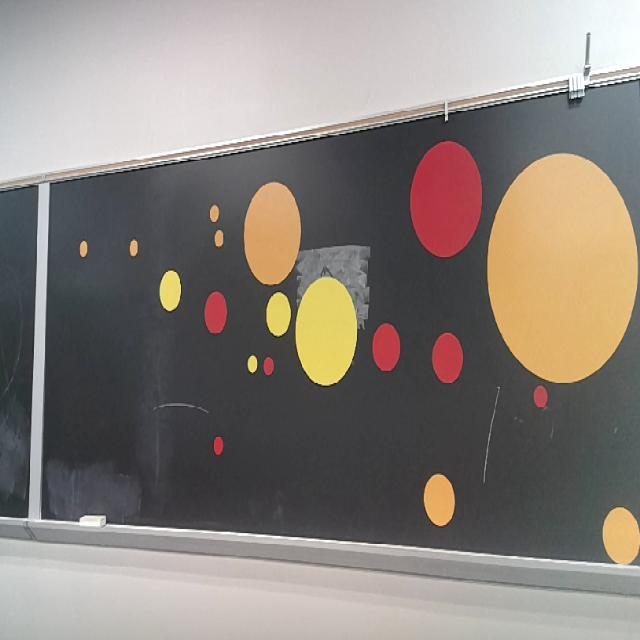Orange: (486, 152, 638, 382), (245, 182, 302, 287), (603, 508, 640, 564), (423, 473, 456, 527), (209, 203, 220, 222), (79, 241, 88, 258), (214, 231, 223, 247), (130, 239, 138, 257)
Red: (410, 140, 482, 258), (432, 333, 463, 382), (372, 322, 400, 372), (204, 290, 228, 334), (534, 384, 548, 408), (264, 357, 274, 376), (213, 436, 223, 455)
Yellow: (295, 276, 357, 387), (267, 292, 291, 336), (160, 270, 182, 313), (247, 354, 258, 374)
